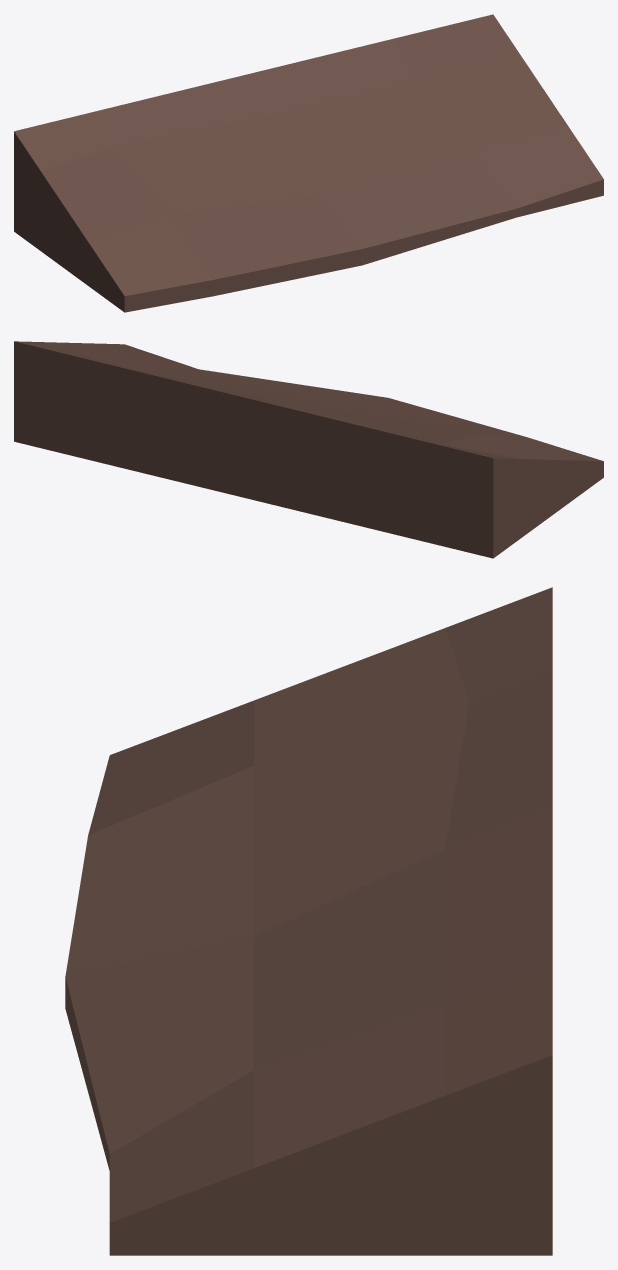
Rendered from Cave_Floor_Edge.fbx.
The picture shows the model from 3 angles, top to bottom: view 1: azimuth 30°, elevation 25°; view 2: azimuth 150°, elevation 25°; view 3: azimuth 270°, elevation 25°; orthographic projection. The views are drawn at different scales.
Visible parts, largest first — view 1: Cave_Floor_Edge; view 2: Cave_Floor_Edge; view 3: Cave_Floor_Edge.
Part boxes in pixels (left/top/right/bottom): Cave_Floor_Edge: left=14, top=14, right=603, bottom=312; Cave_Floor_Edge: left=14, top=341, right=603, bottom=558; Cave_Floor_Edge: left=65, top=587, right=552, bottom=1255.
Size of the model in its own units: 5 by 2.2 by 1.06.
